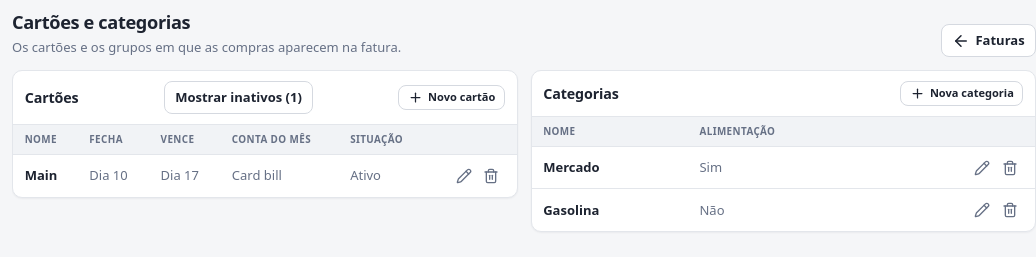
Test case: CardSettingsPage › hides the inactive cards until asked
Expected: the element "Categorias" is shown, [530,70,1035,232]
Expected: the text "Retired" is not shown
Click the button "Mostrar inativos (1)" at (239, 98), box [164,81,313,114]
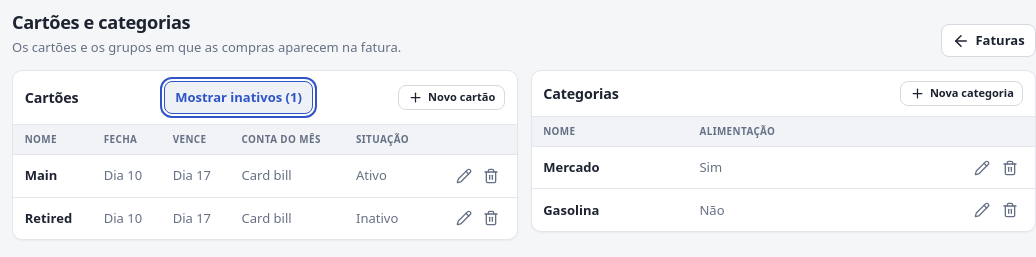
Expected: the text "Retired" is shown, [13,197,92,239]
